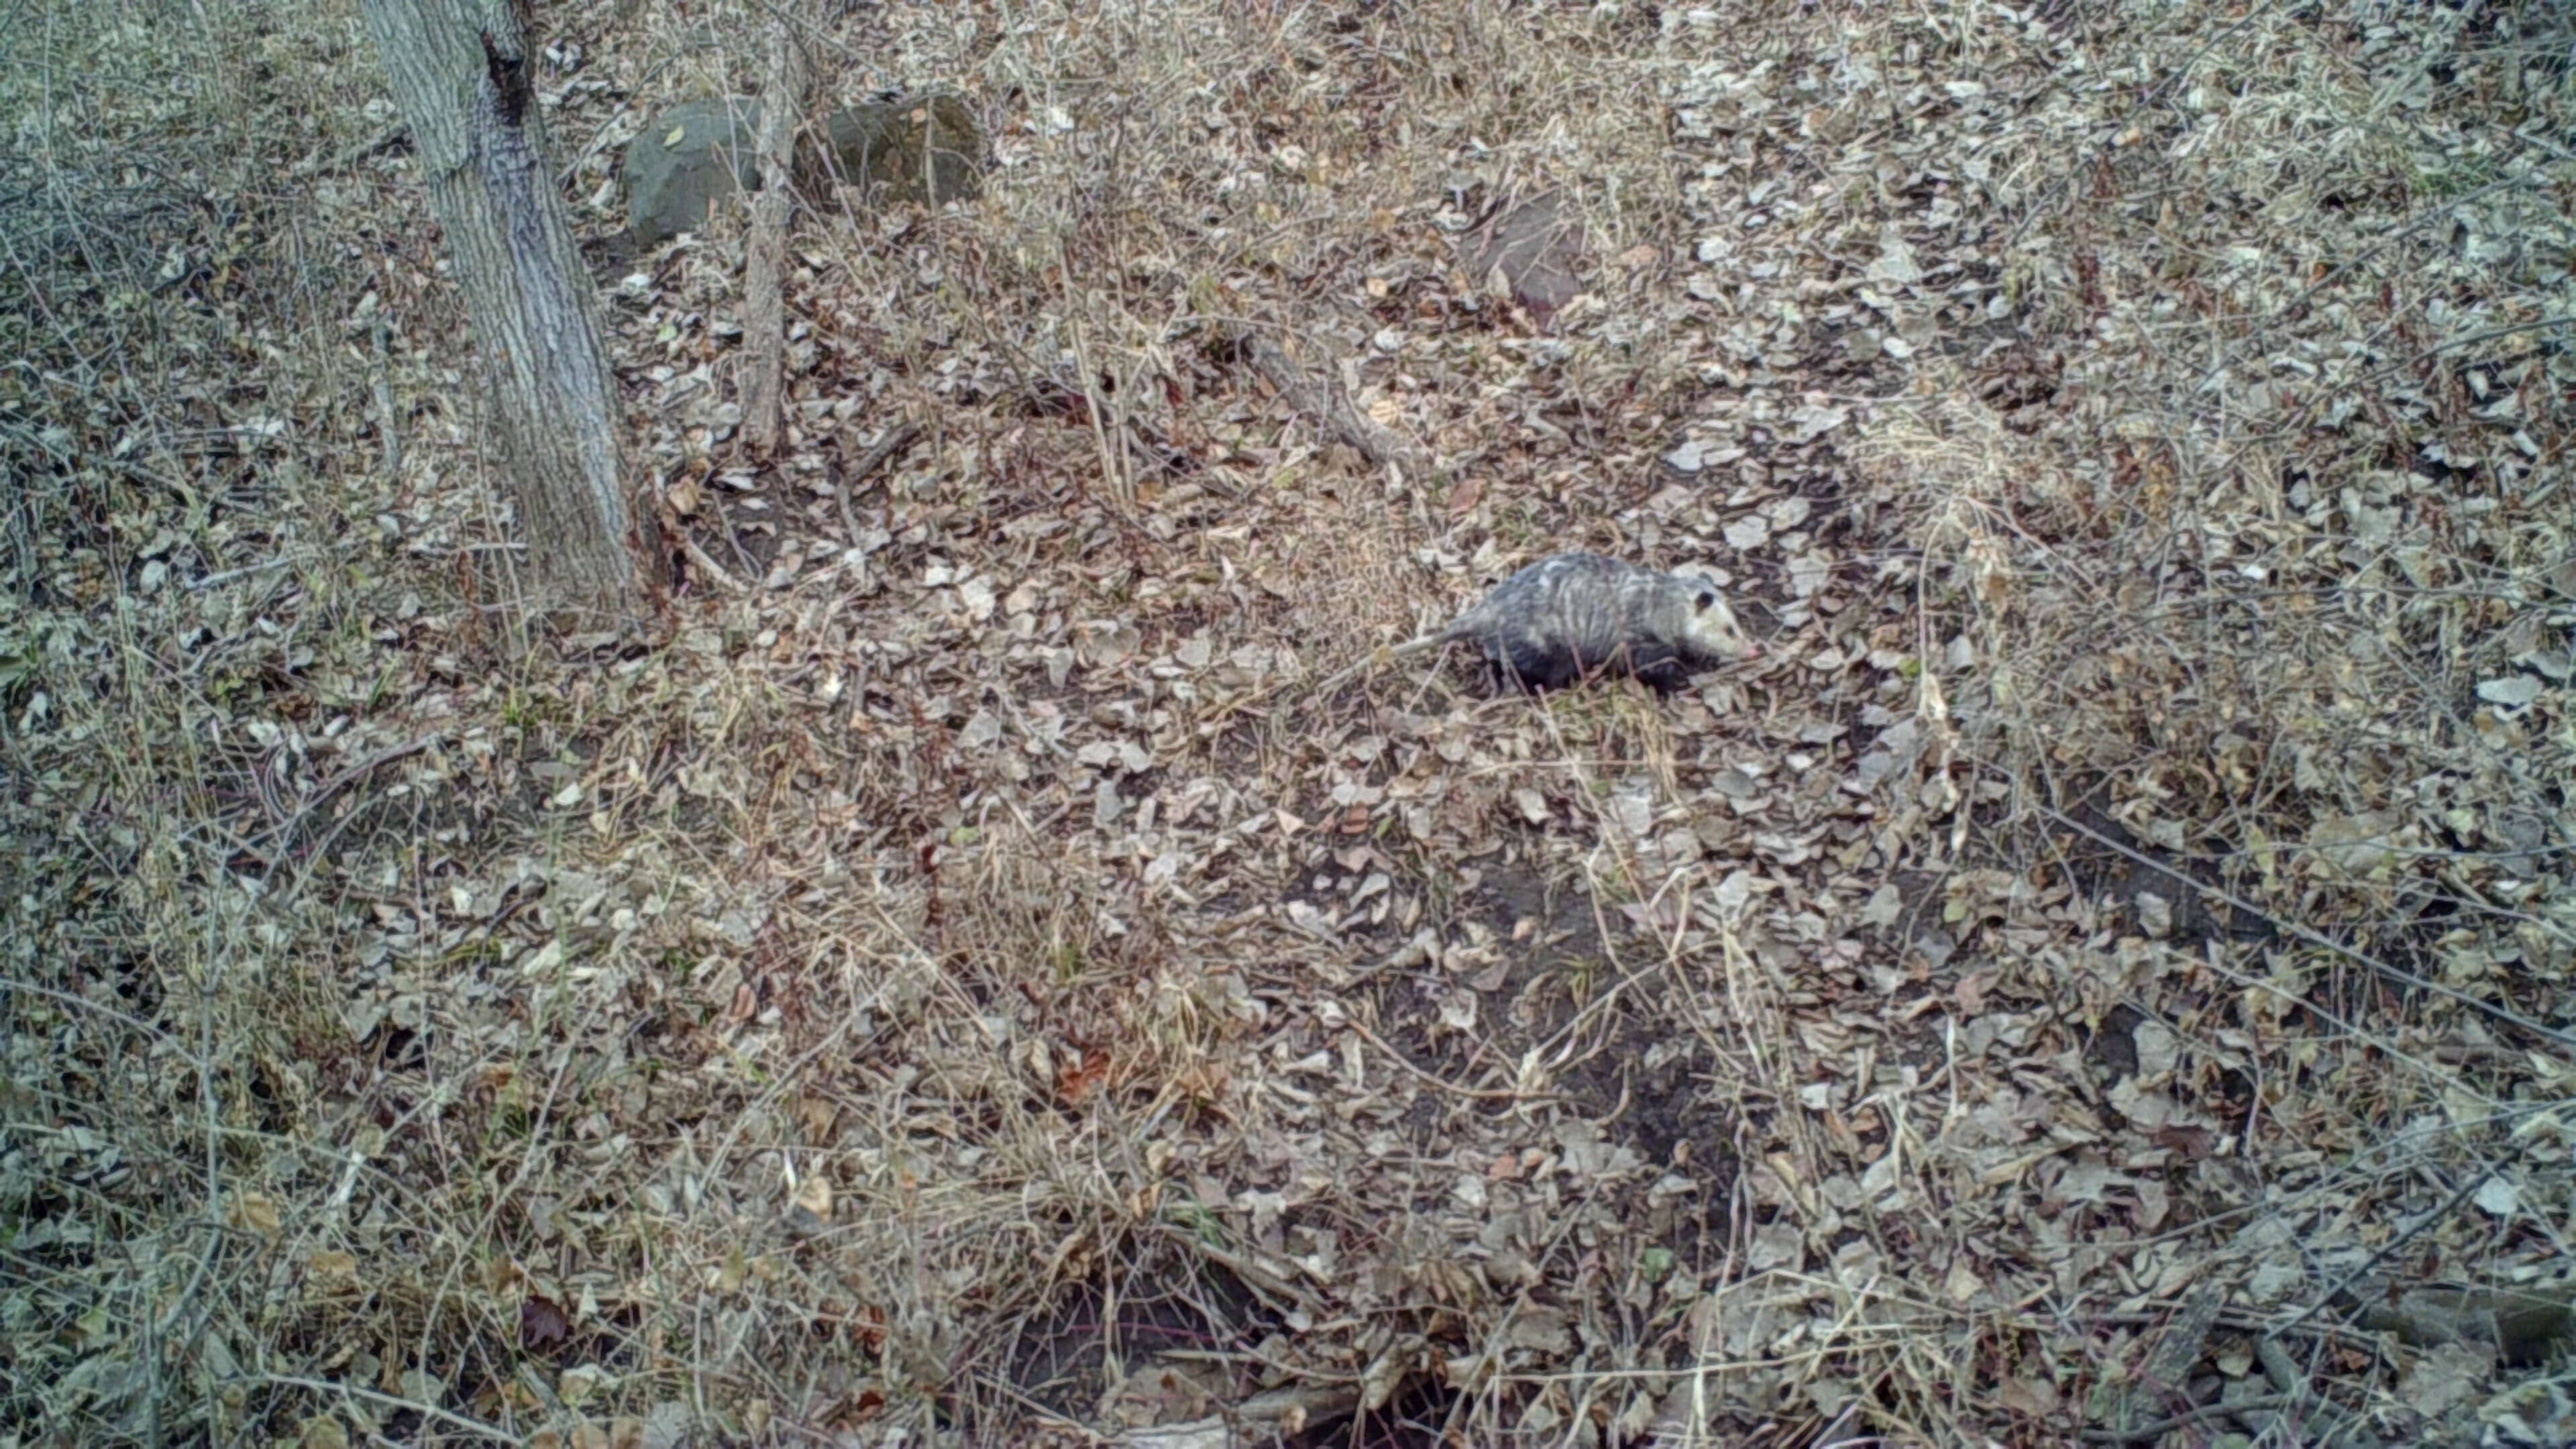Possum: (1316, 550, 1762, 692)
